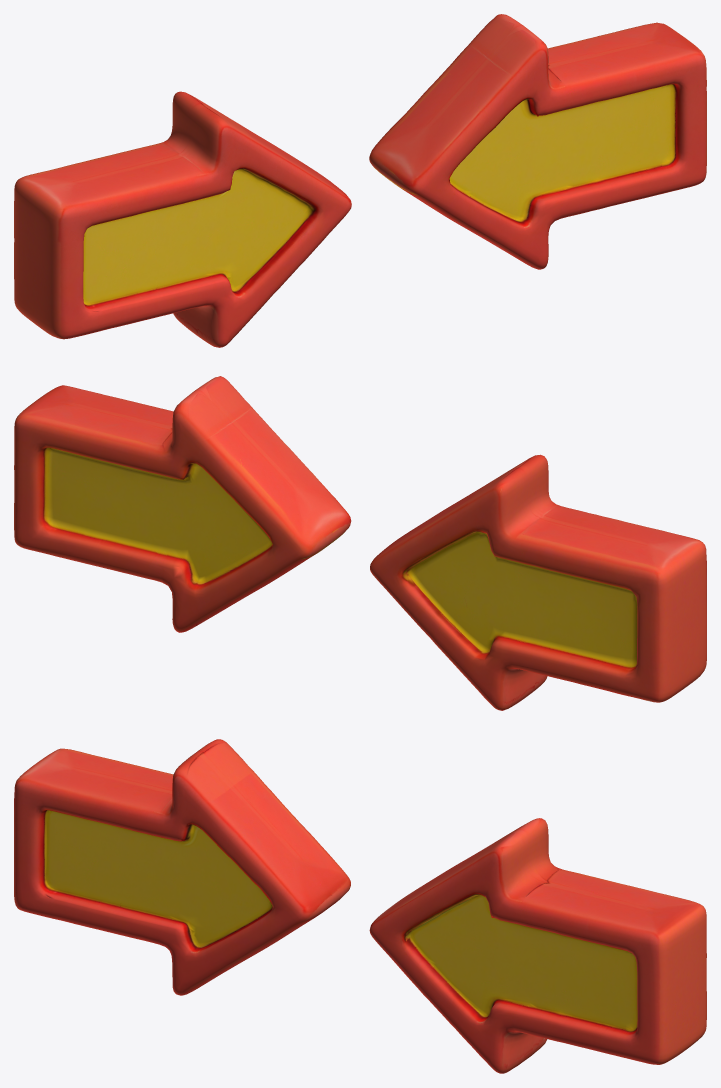
Rendered from reduce_arrows.glb.
3 views of the same model, one above another, from view 1: azimuth 30°, elevation 25°; view 2: azimuth 150°, elevation 25°; view 3: azimuth 330°, elevation 25° (orthographic).
Size of the model in its own units: 2 by 0.6734 by 0.26.
1 material, 1 textured.
